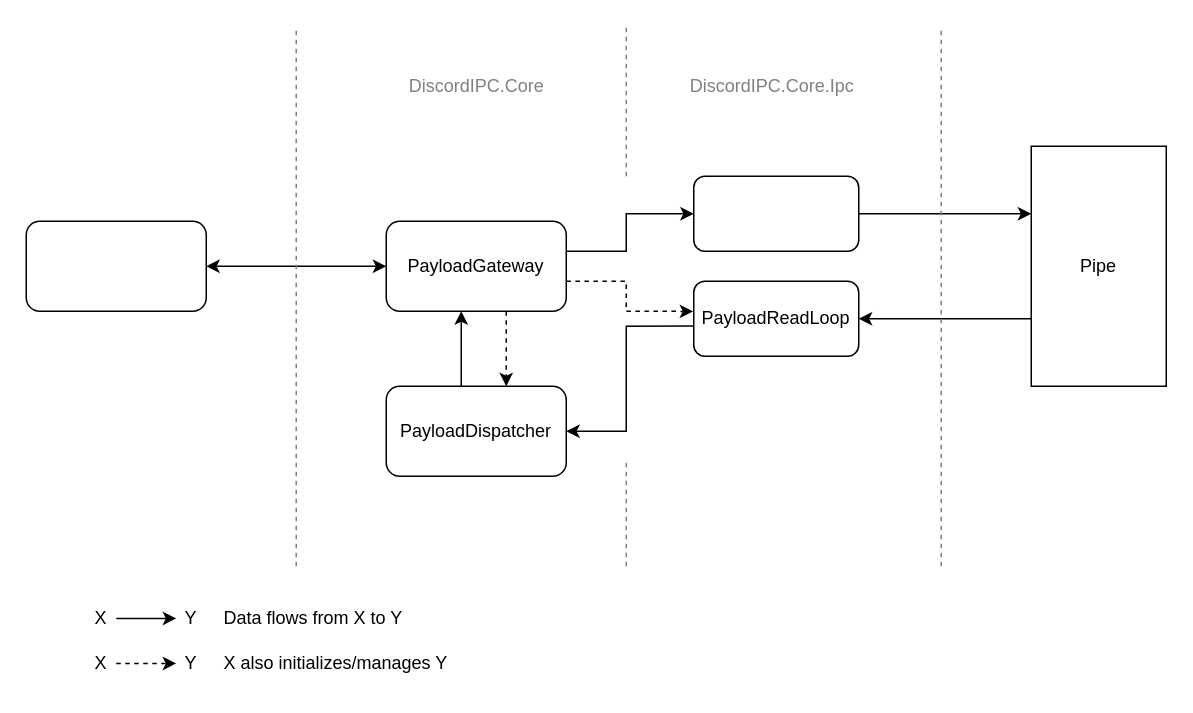
This 1193x713 diagram has some shape labels left out. The box of each missing label's shape, as (x1, y1, x2, y2) in pixels:
DiscordIpcClient: (25, 220, 206, 311)
IpcClient: (692, 175, 859, 251)
